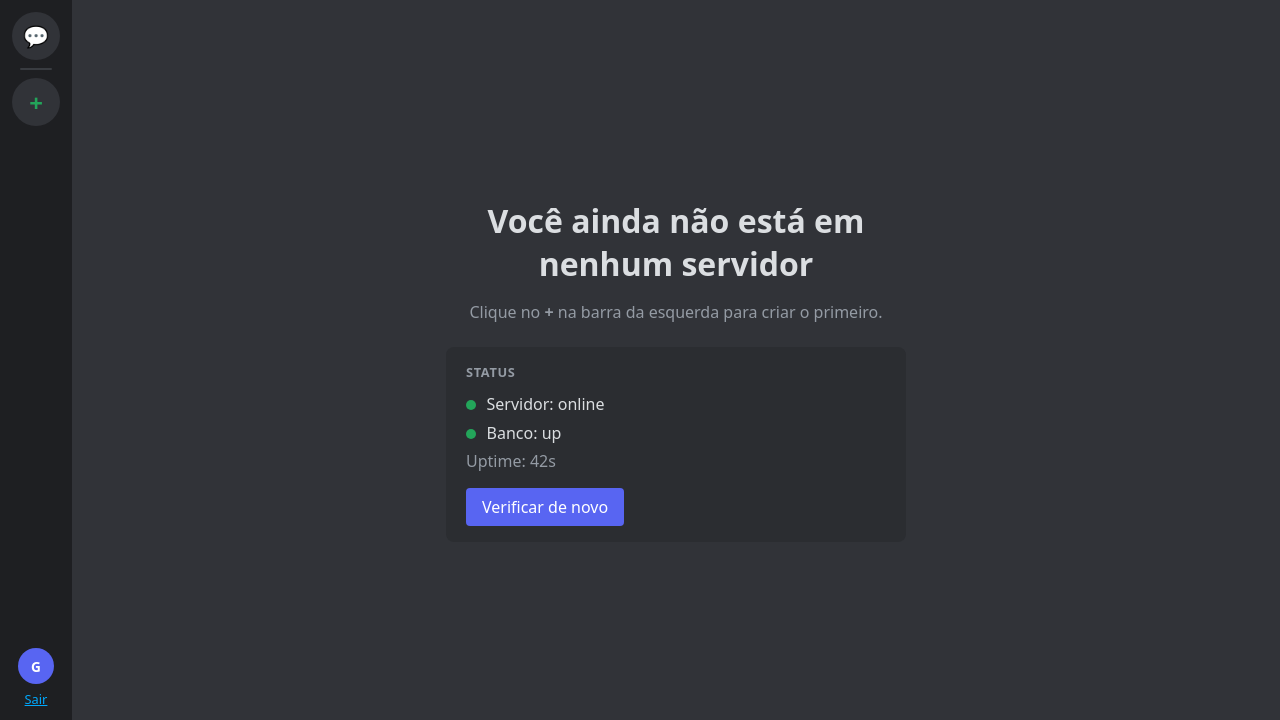
it: navegação › criar servidor leva direto para o #geral dele
Click the button named "Criar servidor" at (36, 102), box [12,78,60,126]
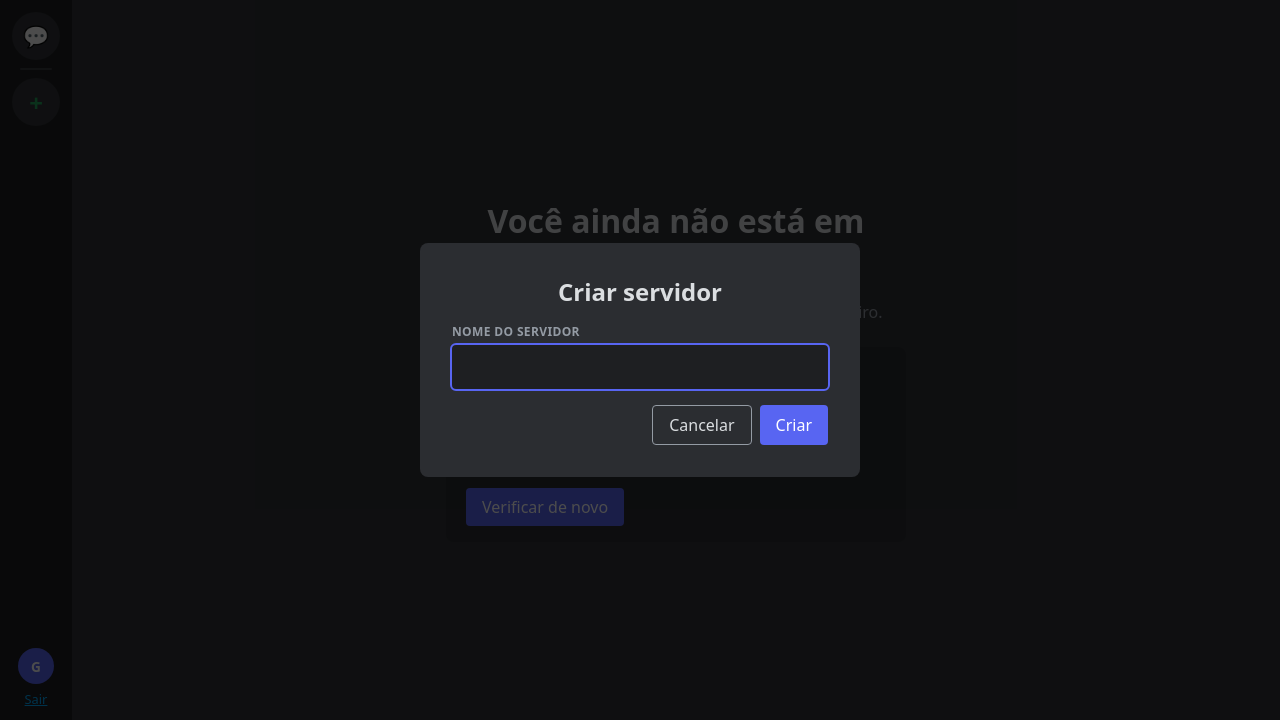
Type "Sala dos Jogos" into the field labelled "Nome do servidor" at (640, 367), box [452,345,828,389]
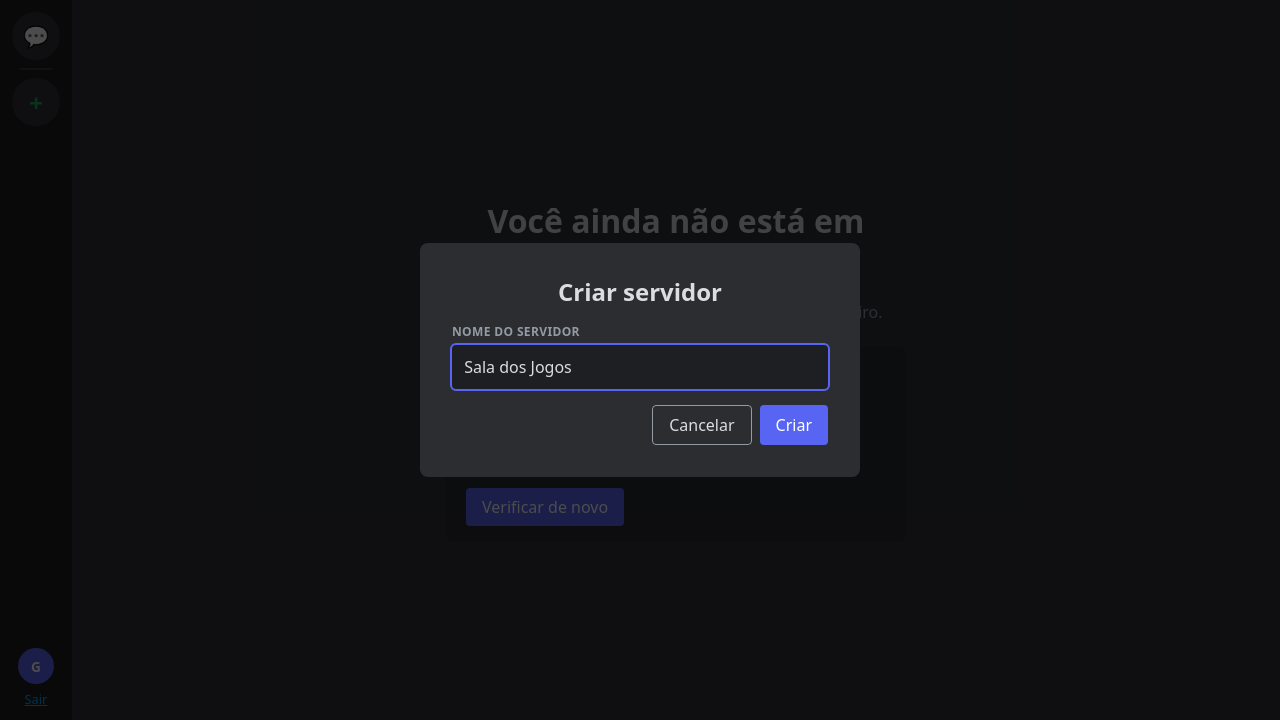
Click the button "Criar" at (794, 425), box [760,405,828,445]
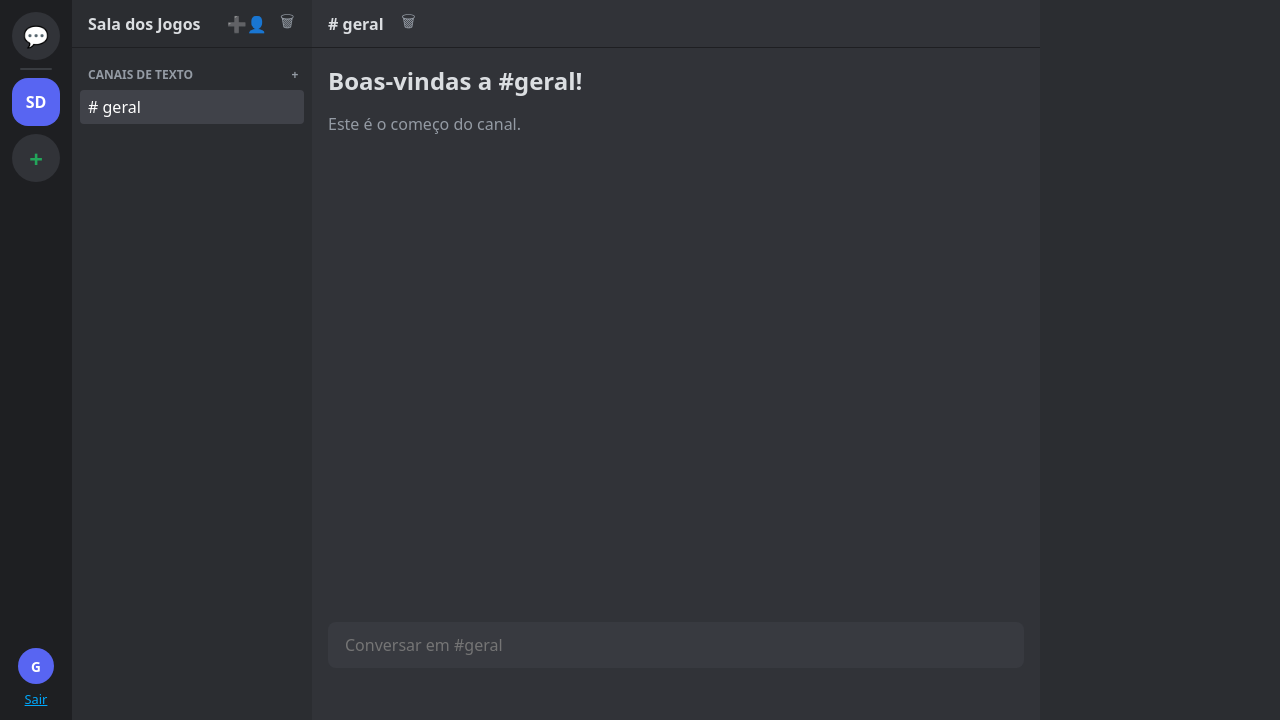
Result: the heading "Boas-vindas a #geral!" is shown at [328,64,582,97]
Result: the link with aria-label "Sala dos Jogos" is shown at [12,78,60,126]
